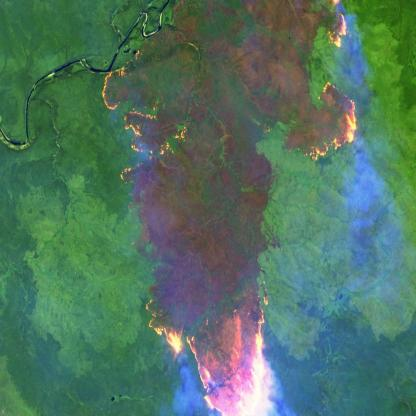fire: (141, 279, 283, 416), (100, 61, 194, 192), (295, 0, 362, 166)
